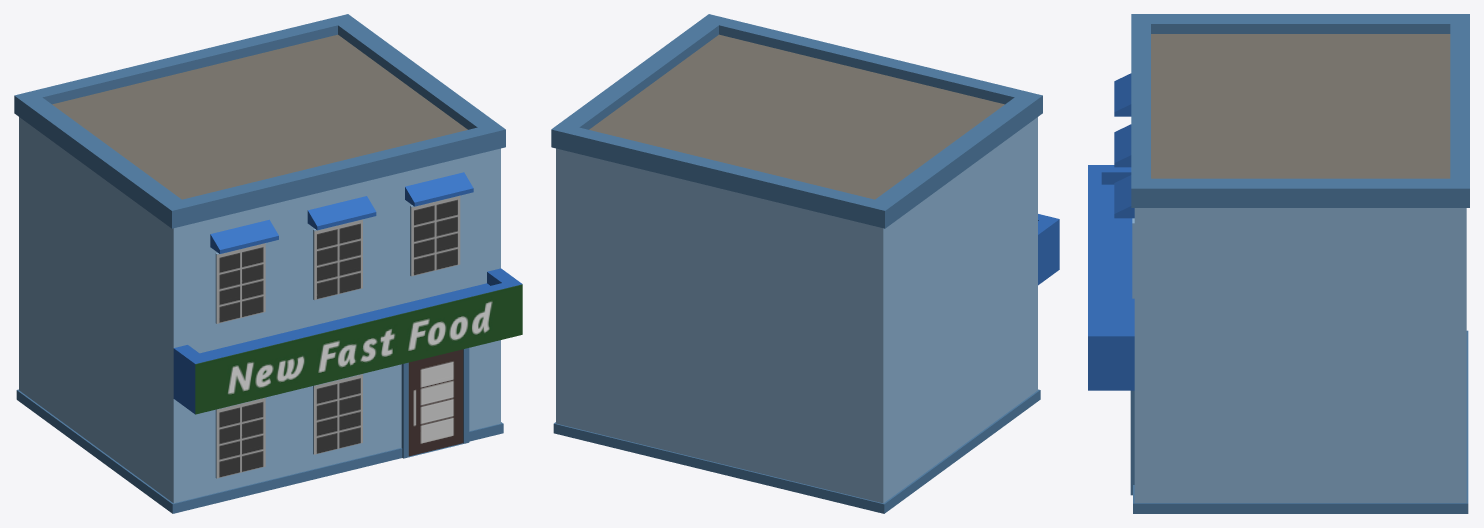
Rendered from Building_Fast Food.fbx.
3 renders of one model, left to right at view 1: azimuth 30°, elevation 25°; view 2: azimuth 150°, elevation 25°; view 3: azimuth 270°, elevation 25°, orthographic. The views are drawn at different scales.
Visible parts, largest first — view 1: Building_Fast Food; view 2: Building_Fast Food; view 3: Building_Fast Food.
Part boxes in pixels (x1=…): Building_Fast Food: x1=14, y1=14, x2=522, y2=513; Building_Fast Food: x1=551, y1=14, x2=1059, y2=513; Building_Fast Food: x1=1088, y1=14, x2=1469, y2=513.
Bounding box in the file's own units: 1122 × 976 × 1035.
